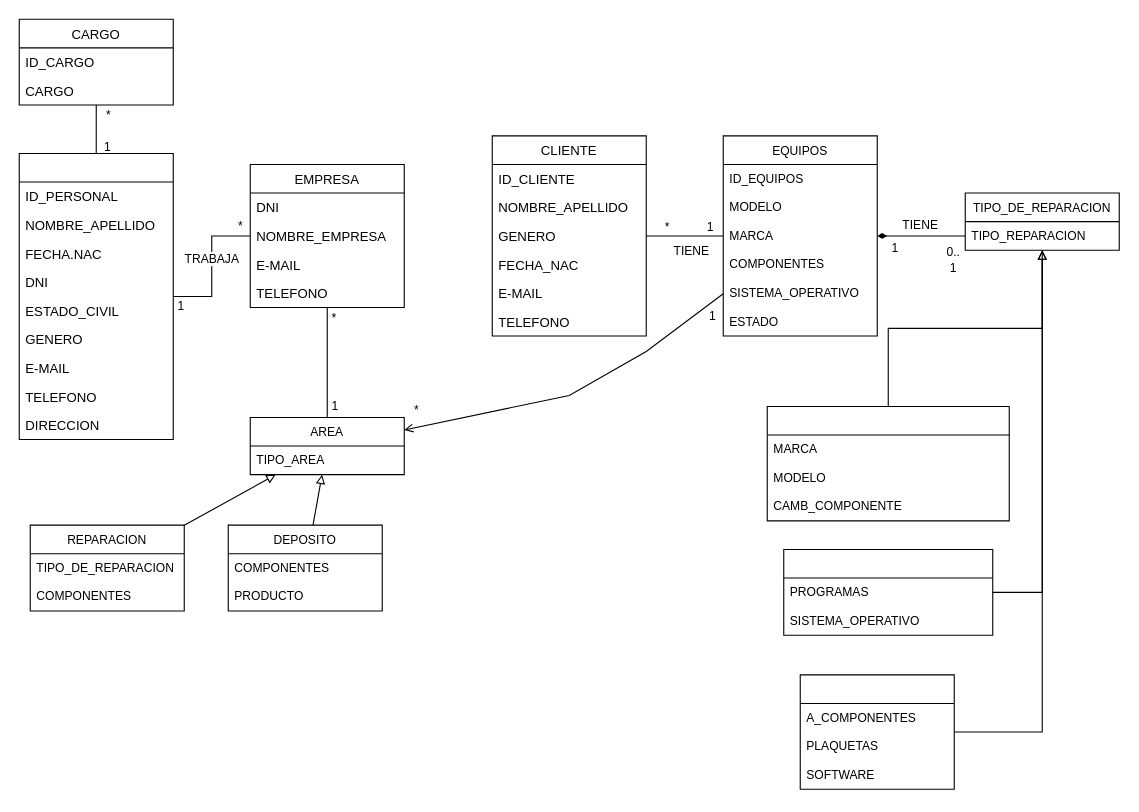
Image size: 1139x812. Some labels were removed from this diagram. The shapes that lost their labels are listed below. From the top down, each one's box as (x1, y1, x2, y2) in pixels, then its label:
(18, 152, 173, 439): EMPLEADO
(766, 405, 1009, 521): CAMBIO_DE_COMPONENTES
(783, 548, 993, 635): INSTALACION_DE_SOFTWARE
(799, 674, 954, 789): ARREGLO
